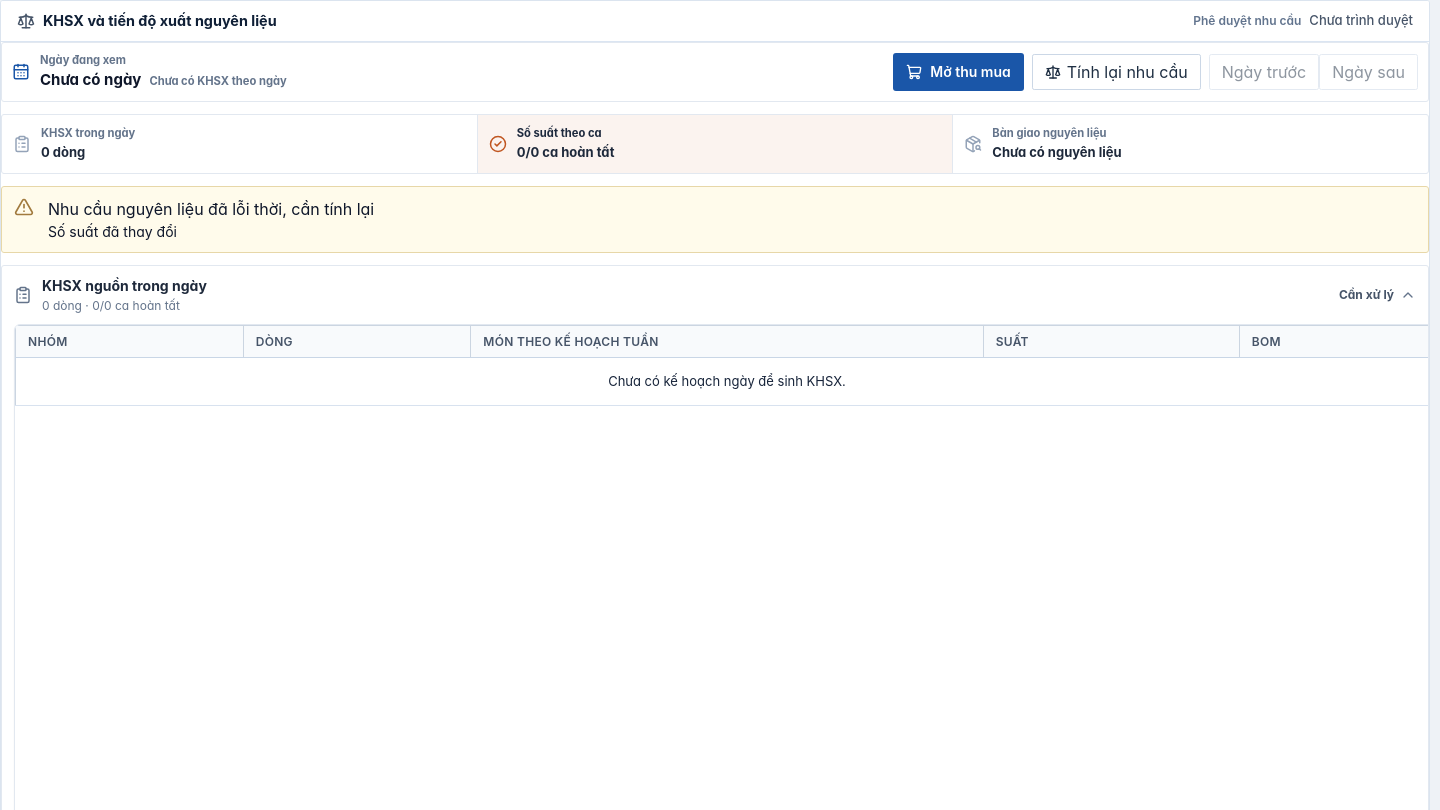
Test: MaterialDemandSection — xác nhận tính lại nhu cầu đã duyệt › chờ xác nhận trước khi tính lại nhu cầu đã duyệt
Click the button "Tính lại nhu cầu".
click(1116, 72)  # box [1032, 54, 1201, 90]
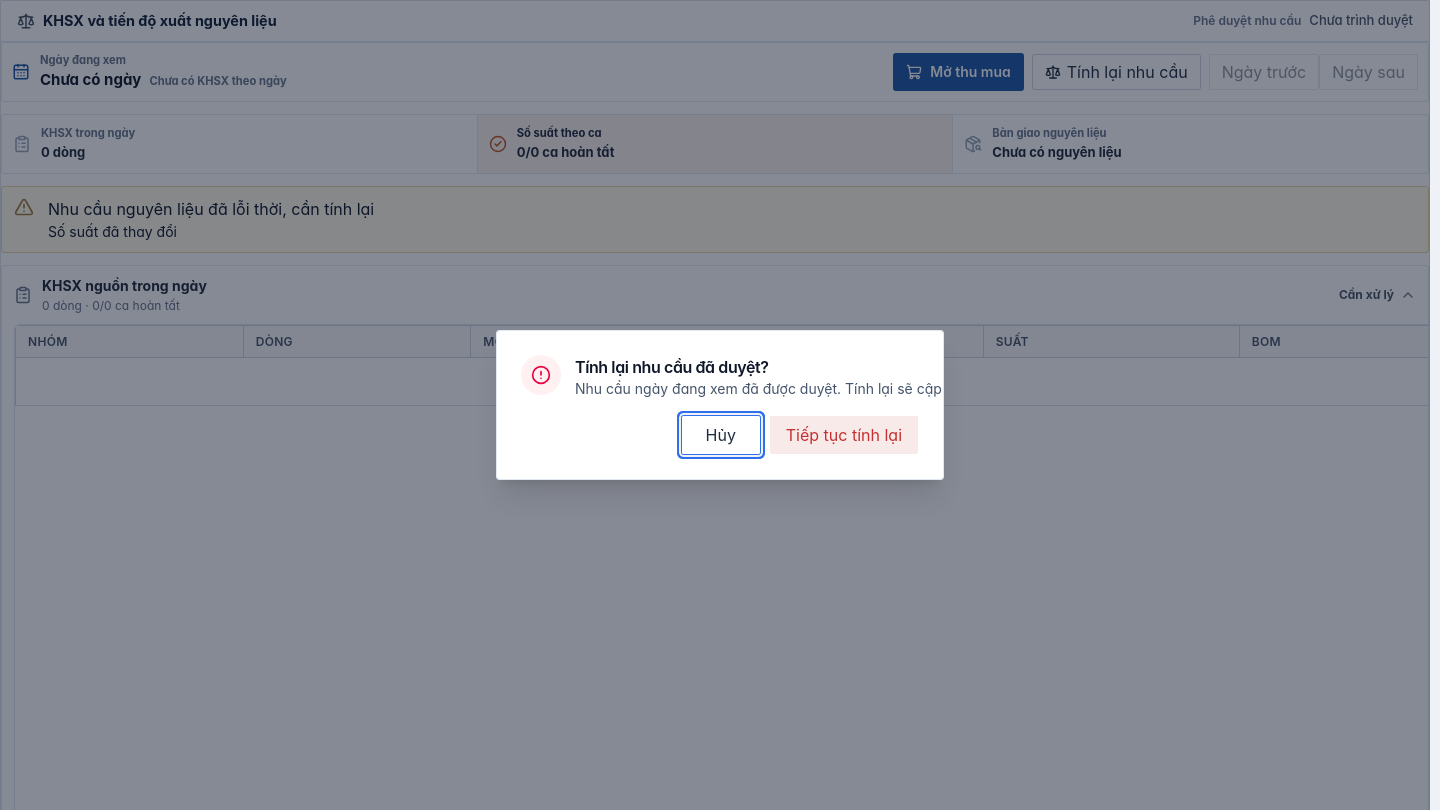
Expected: the dialog named "Xác nhận tính lại nhu cầu" shows "Nhu cầu ngày đang xem đã được duyệt. Tính lại sẽ cập nhật dữ liệu nguồn cho quy trình thu mua. Bạn có muốn tiếp tục?", [575, 380, 1375, 397]
